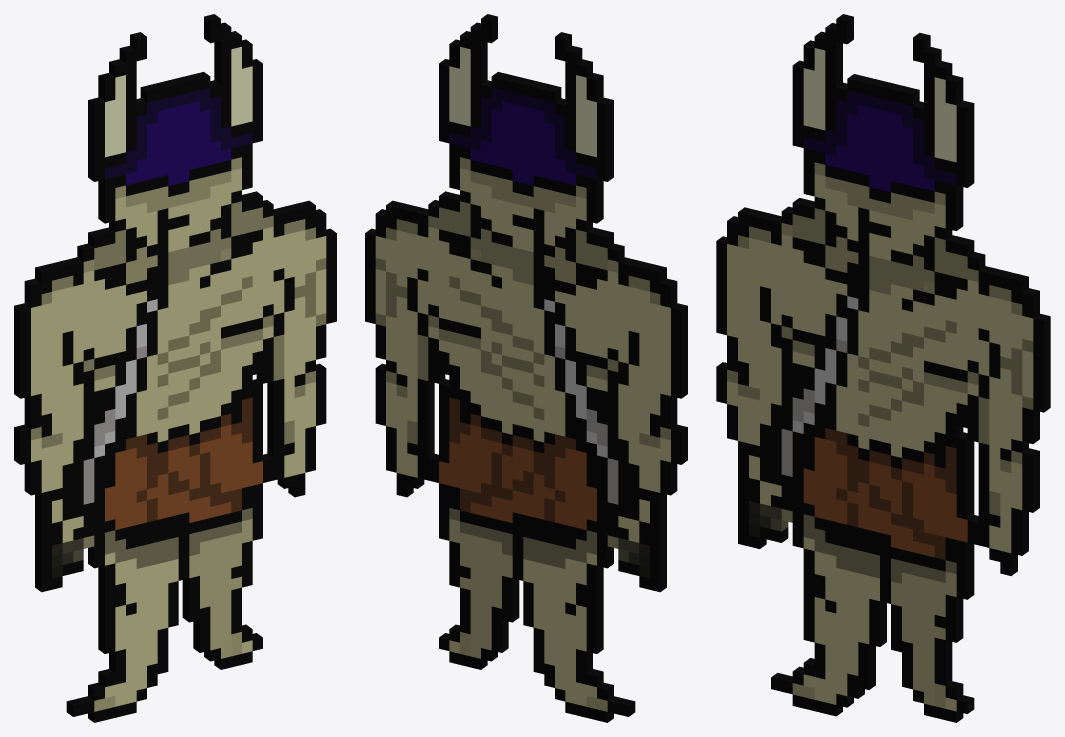
Rendered from Barbarian.fbx.
3 renders of one model, left to right at view 1: azimuth 30°, elevation 25°; view 2: azimuth 150°, elevation 25°; view 3: azimuth 330°, elevation 25°, orthographic. The views are drawn at different scales.
Parts seen in each view (by area): view 1: Curve.515; view 2: Curve.515; view 3: Curve.515.
Part boxes in pixels (bbox=[...]): Curve.515: bbox=[14, 14, 336, 722]; Curve.515: bbox=[365, 14, 687, 722]; Curve.515: bbox=[716, 14, 1050, 722].
Bounding box in the file's own units: 25.4 × 51.64 × 0.9.
